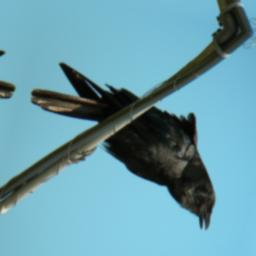Crow: (2, 57, 246, 233)
